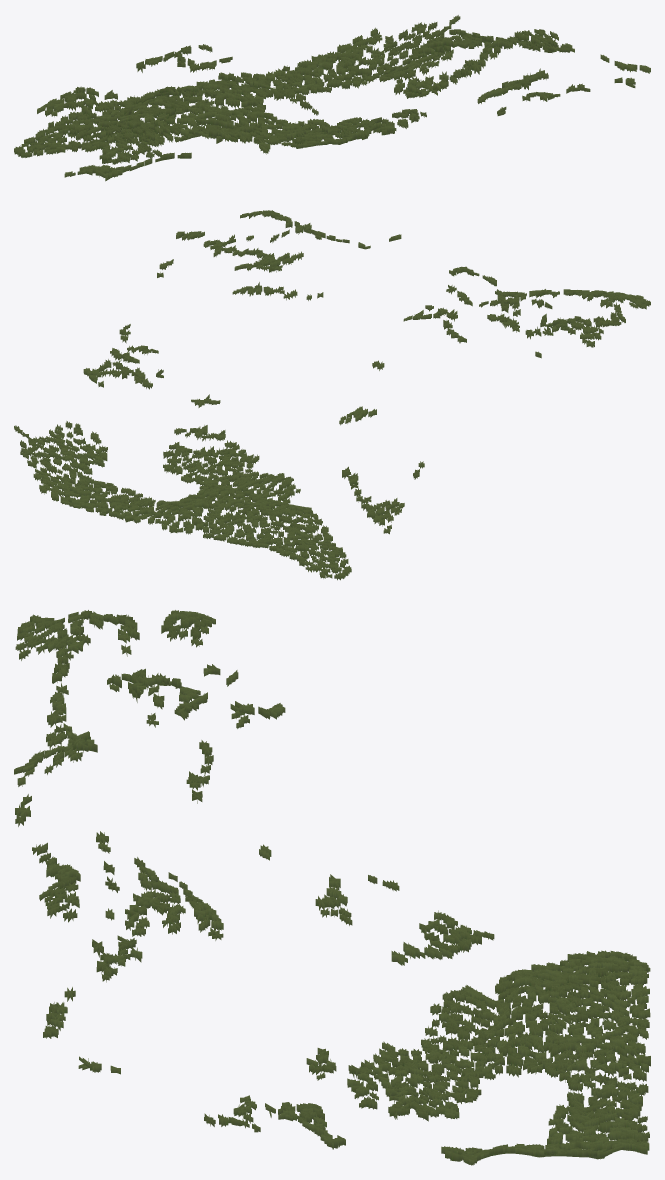
Rendered from TRB8-GRASS-CHUNK-4-1.glb.
3 views of the same model, one above another, from view 1: azimuth 30°, elevation 25°; view 2: azimuth 150°, elevation 25°; view 3: azimuth 270°, elevation 25° (orthographic). The views are drawn at different scales.
Visible parts, largest first — view 1: TRB8-GRASS-CHUNK-4-1; view 2: TRB8-GRASS-CHUNK-4-1; view 3: TRB8-GRASS-CHUNK-4-1.
Part boxes in pixels (x1,y1,x2,y2): TRB8-GRASS-CHUNK-4-1: [14, 15, 650, 181]; TRB8-GRASS-CHUNK-4-1: [14, 210, 650, 580]; TRB8-GRASS-CHUNK-4-1: [14, 610, 650, 1165].
Size of the model in its own units: 40.41 by 14.9 by 30.52.
Materials: 1 (1 with a texture image).
